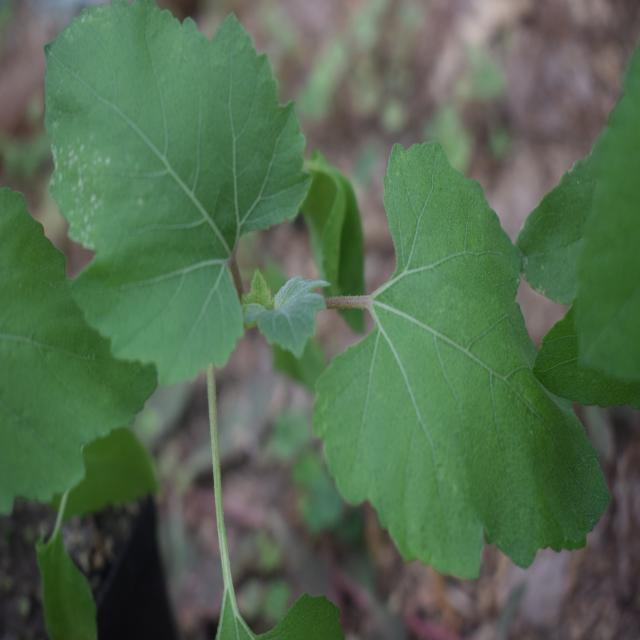cocklebur: (48, 20, 574, 600)
